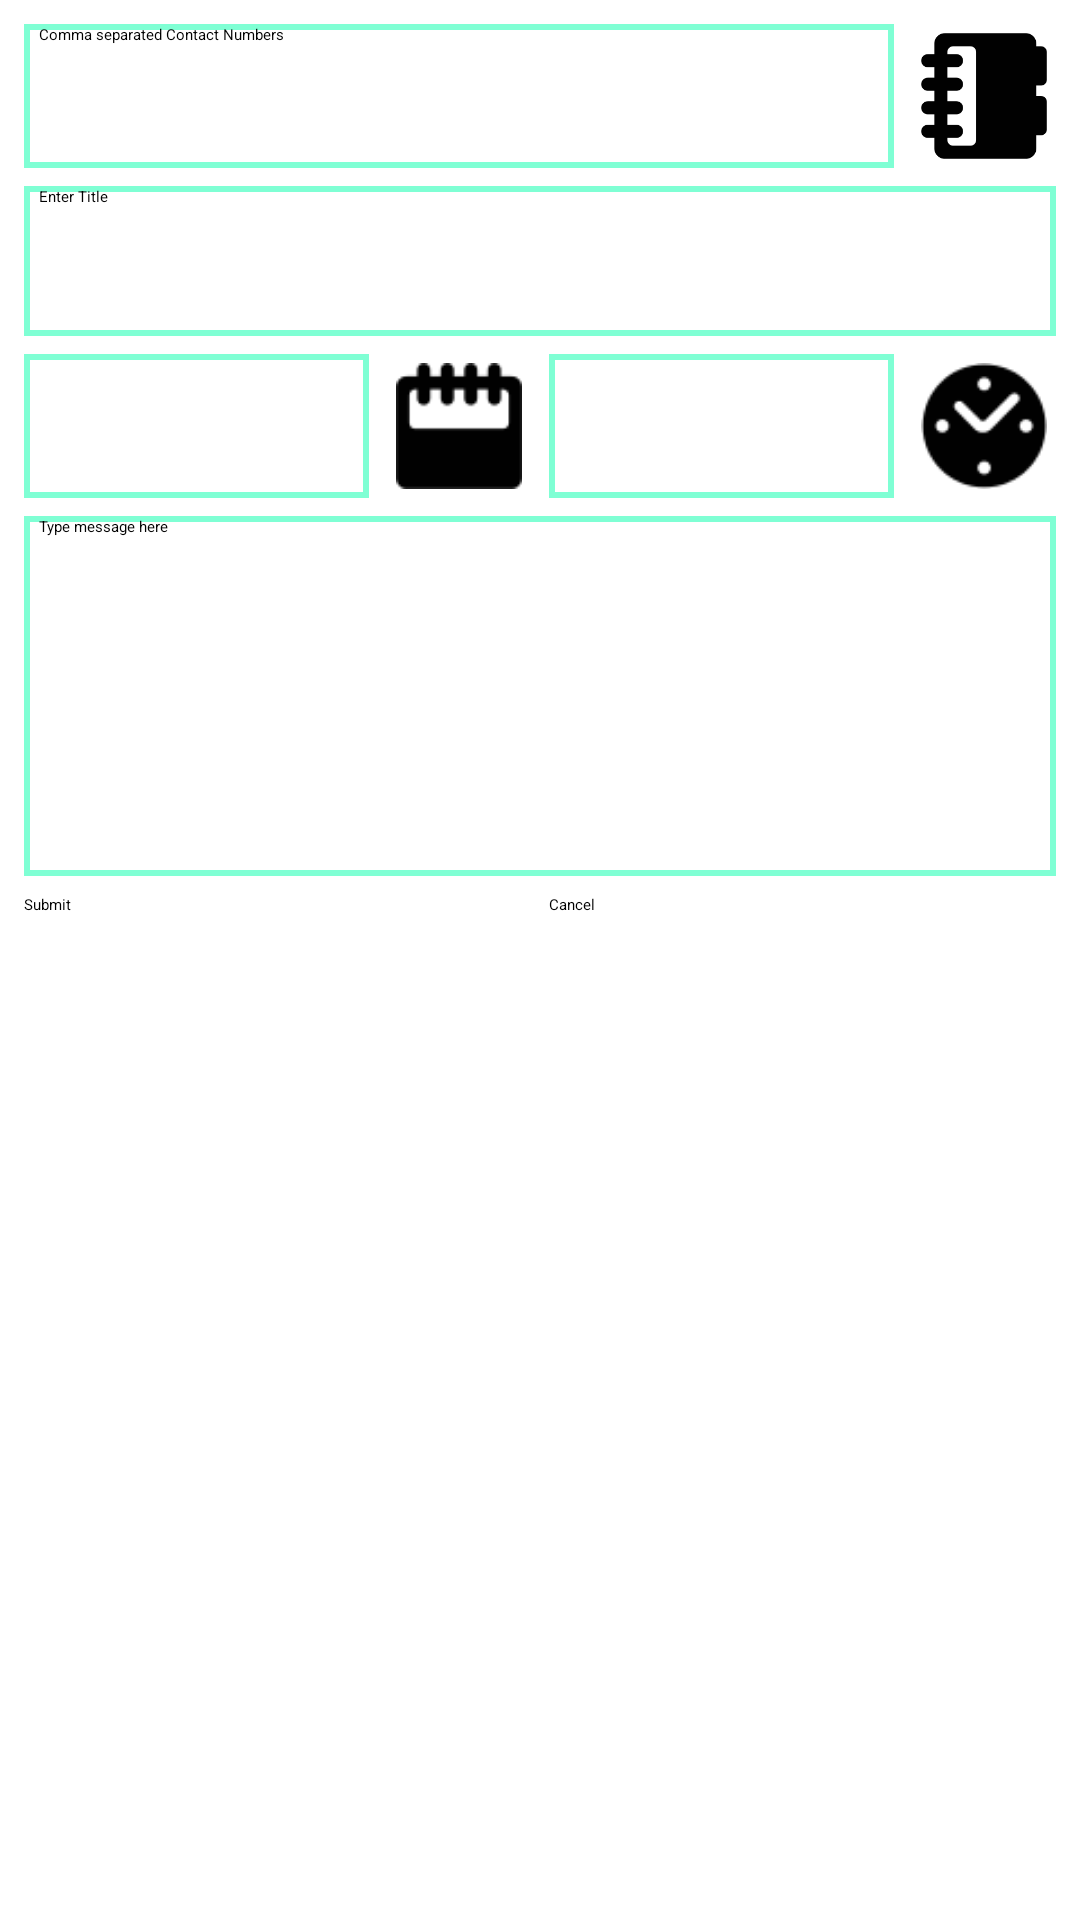

Named icons in this screenshot (1080px x 1920px) and their centers, (x,y):
calendar: (459,426)
clock: (984,426)
